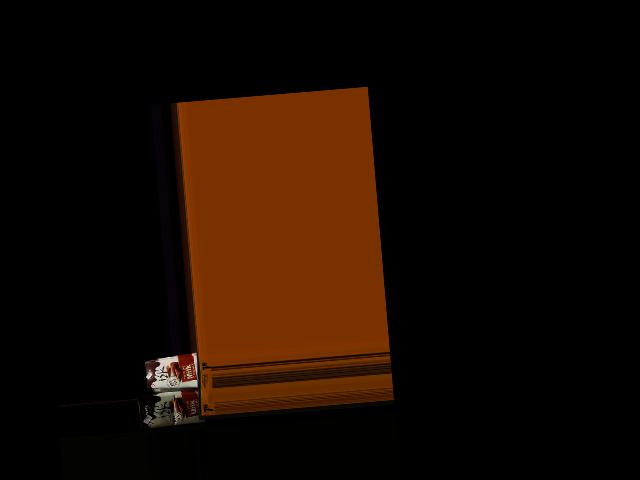chocolate: (142, 349, 206, 391)
